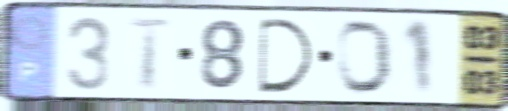1: (398, 16, 436, 100)
3: (64, 14, 112, 92)
8: (198, 18, 247, 93)
D: (256, 15, 318, 96)
O: (335, 17, 396, 98)
T: (124, 15, 177, 92)
